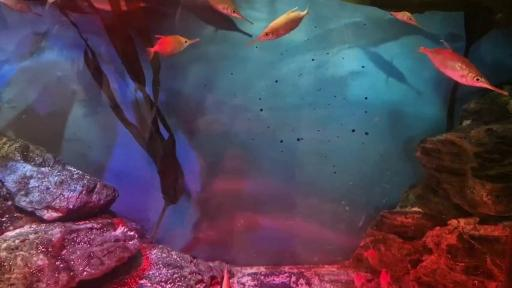Fish: (419, 47, 508, 95), (362, 48, 421, 95), (246, 7, 308, 45), (147, 35, 199, 59), (207, 0, 253, 24), (390, 12, 426, 31), (0, 0, 41, 16), (390, 12, 423, 28), (364, 249, 379, 267), (91, 0, 111, 11), (380, 269, 391, 287), (222, 267, 230, 287), (354, 273, 365, 287), (46, 0, 55, 9)
